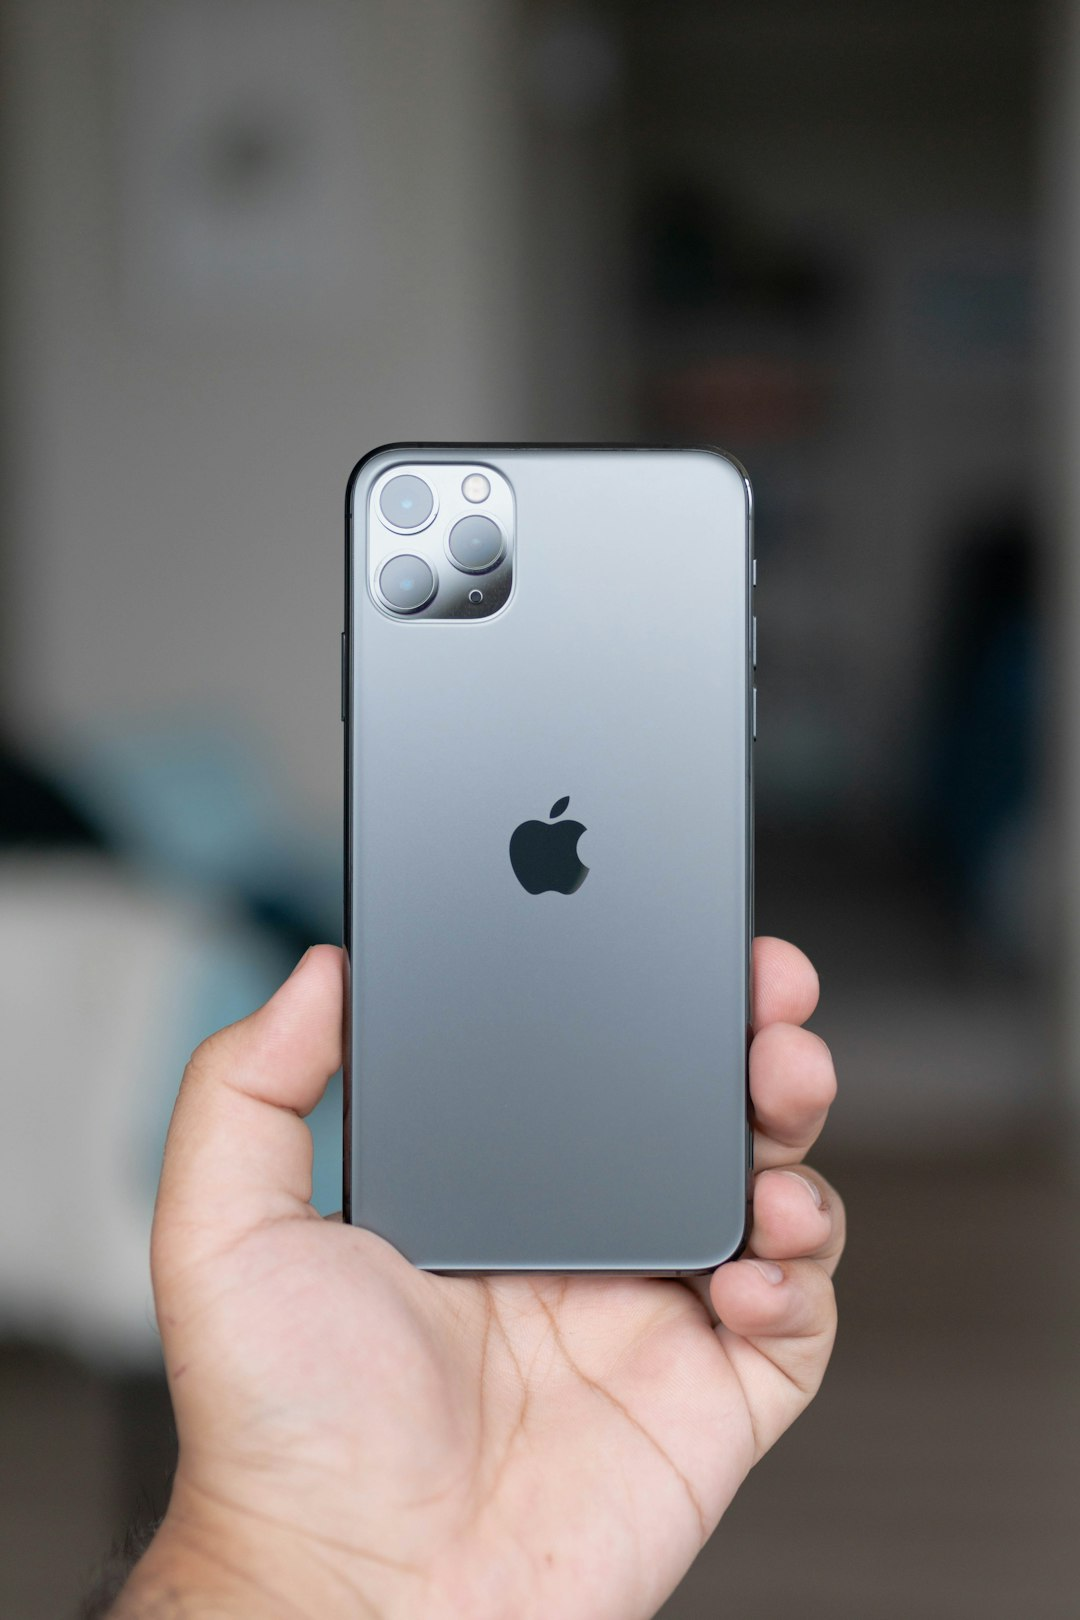phone: (344, 450, 756, 1276)
